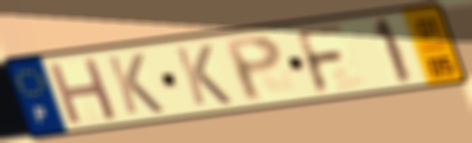1: (369, 15, 417, 87)
F: (292, 22, 349, 98)
H: (45, 54, 122, 128)
K: (103, 51, 168, 117), (171, 42, 236, 108)
P: (220, 32, 285, 105)
